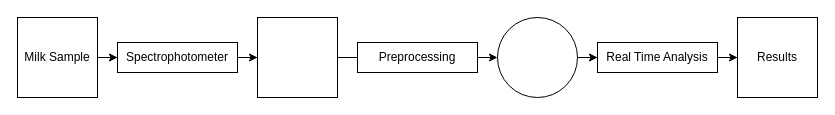
Image size: 835x115. Some labels were removed from this diagram. Here are the shapes that lost their labels. From the top down, the box of each, then its label:
(256, 16, 338, 98): Spectral Data
(496, 16, 578, 98): AI Model
